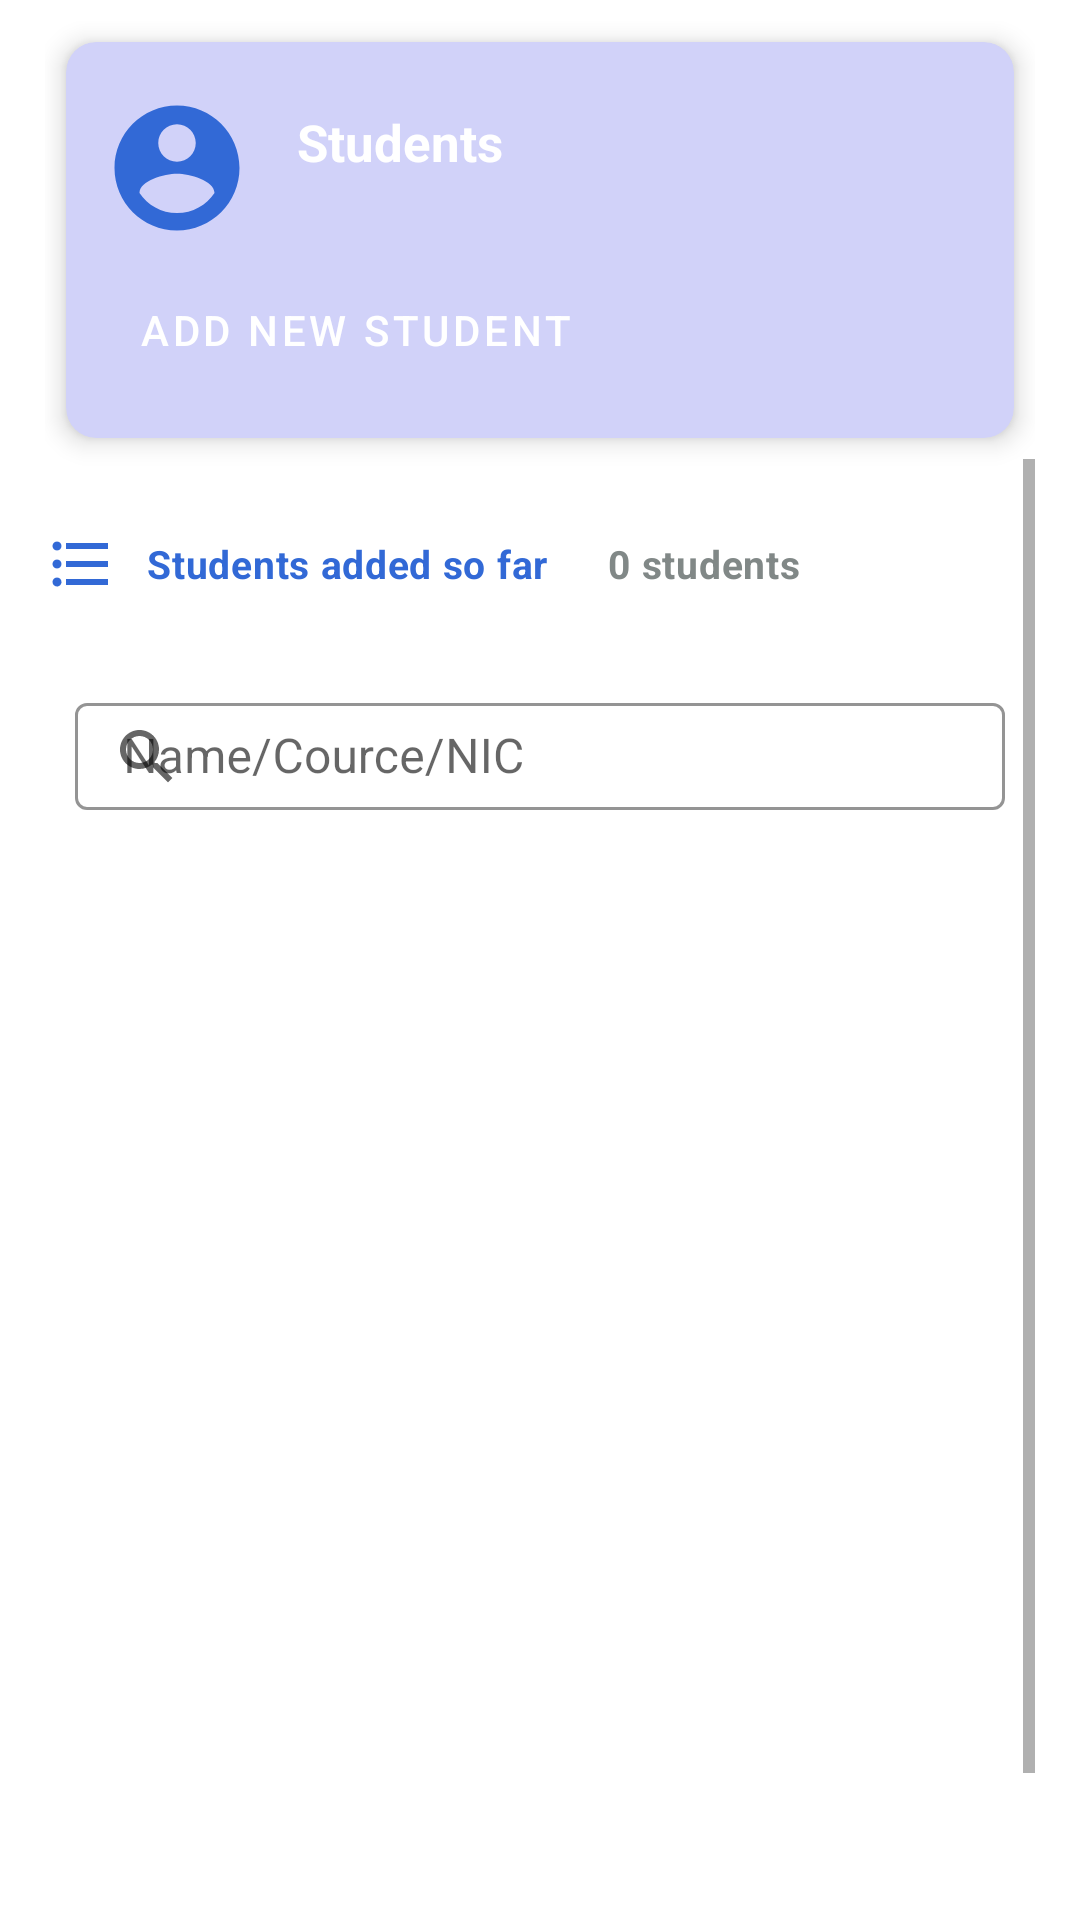

Named icons in this screenshot (1080*1920) and their centers, [x,y]:
account circle: [177,168]
format list bulleted: [80,564]
